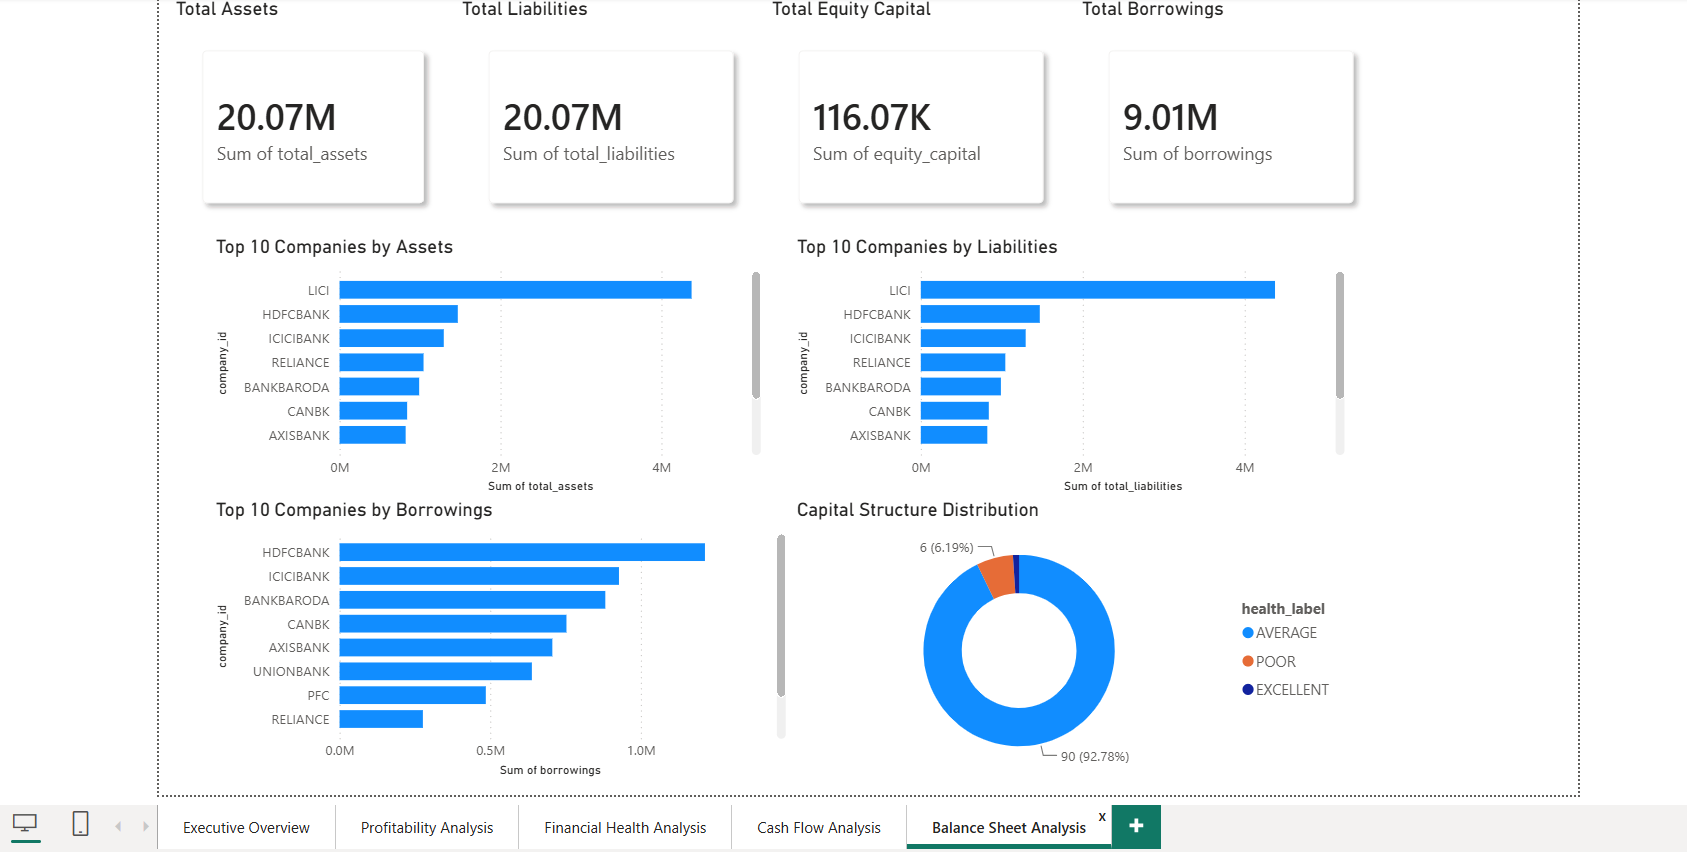

The page's visual inventory and layout, read from the dashboard file:
{"tool":"powerbi","page":{"name":"Balance Sheet Analysis","canvas":[1280,720],"ordinal":4},"visuals":[{"type":"cardVisual","title":"Total Assets","fields":{"Data":["Sum(company_health_scores.total_assets)"]},"box":[10.1,0,258.1,215.3],"z":0},{"type":"cardVisual","title":"Total Liabilities","fields":{"Data":["Sum(company_health_scores.total_liabilities)"]},"box":[268.3,0,279.5,215.3],"z":1000},{"type":"cardVisual","title":"Total Equity Capital","fields":{"Data":["Sum(company_health_scores.equity_capital)"]},"box":[547.8,0,279.5,215.3],"z":2000},{"type":"cardVisual","title":"Total Borrowings","fields":{"Data":["Sum(company_health_scores.borrowings)"]},"box":[827.3,0,279.5,215.3],"z":3000},{"type":"clusteredBarChart","title":"Top 10 Companies by Assets","fields":{"Category":["company_health_scores.company_id"],"Y":["Sum(company_health_scores.total_assets)"]},"box":[46.2,215.3,501.6,236.7],"z":4000},{"type":"clusteredBarChart","title":"Top 10 Companies by Liabilities","fields":{"Category":["company_health_scores.company_id"],"Y":["Sum(company_health_scores.total_liabilities)"]},"box":[570.3,215.3,503.8,236.7],"z":5000},{"type":"clusteredBarChart","title":"Top 10 Companies by Borrowings","fields":{"Category":["company_health_scores.company_id"],"Y":["Sum(company_health_scores.borrowings)"]},"box":[46.2,452,524.1,255.9],"z":6000},{"type":"donutChart","title":"Capital Structure Distribution","fields":{"Category":["company_health_scores.health_label"],"Y":["Count(company_health_scores.company_id)"]},"box":[570.3,452,503.8,255.9],"z":7000}]}

Visuals, with their boxes on the page's 1280x720 design canvas (x1, y1, x2, y2). These are canvas units, not pixel positions in the 1687x852 screenshot, which may show the page scaled, cropped or inside an application window:
"Total Assets" cardVisual: detection(10, 0, 268, 215)
"Total Liabilities" cardVisual: detection(268, 0, 548, 215)
"Total Equity Capital" cardVisual: detection(548, 0, 827, 215)
"Total Borrowings" cardVisual: detection(827, 0, 1107, 215)
"Top 10 Companies by Assets" clusteredBarChart: detection(46, 215, 548, 452)
"Top 10 Companies by Liabilities" clusteredBarChart: detection(570, 215, 1074, 452)
"Top 10 Companies by Borrowings" clusteredBarChart: detection(46, 452, 570, 708)
"Capital Structure Distribution" donutChart: detection(570, 452, 1074, 708)
